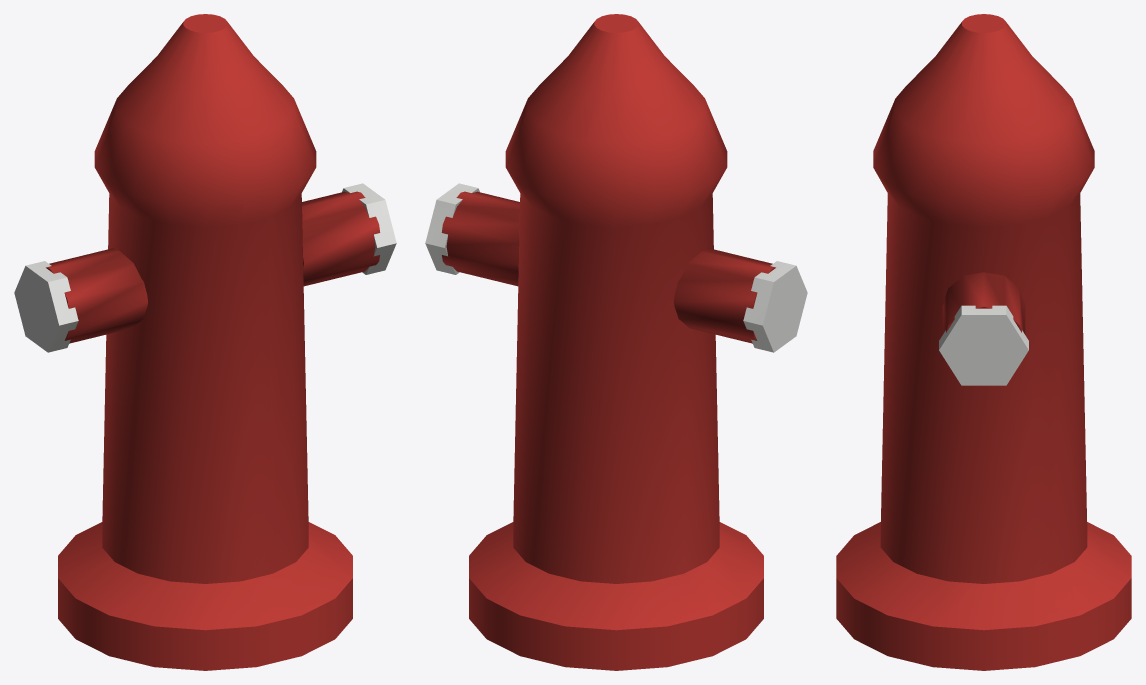
File: st_hydrant.glb
3 renders of one model, left to right at view 1: azimuth 30°, elevation 25°; view 2: azimuth 150°, elevation 25°; view 3: azimuth 270°, elevation 25°, orthographic.
Visible parts, largest first — view 1: body; view 2: body; view 3: body.
Part boxes in pixels (x1=…): body: x1=14, y1=14, x2=396, y2=670; body: x1=425, y1=14, x2=807, y2=670; body: x1=836, y1=14, x2=1131, y2=670.
Size of the model in its own units: 0.52 by 0.86 by 0.3939.
